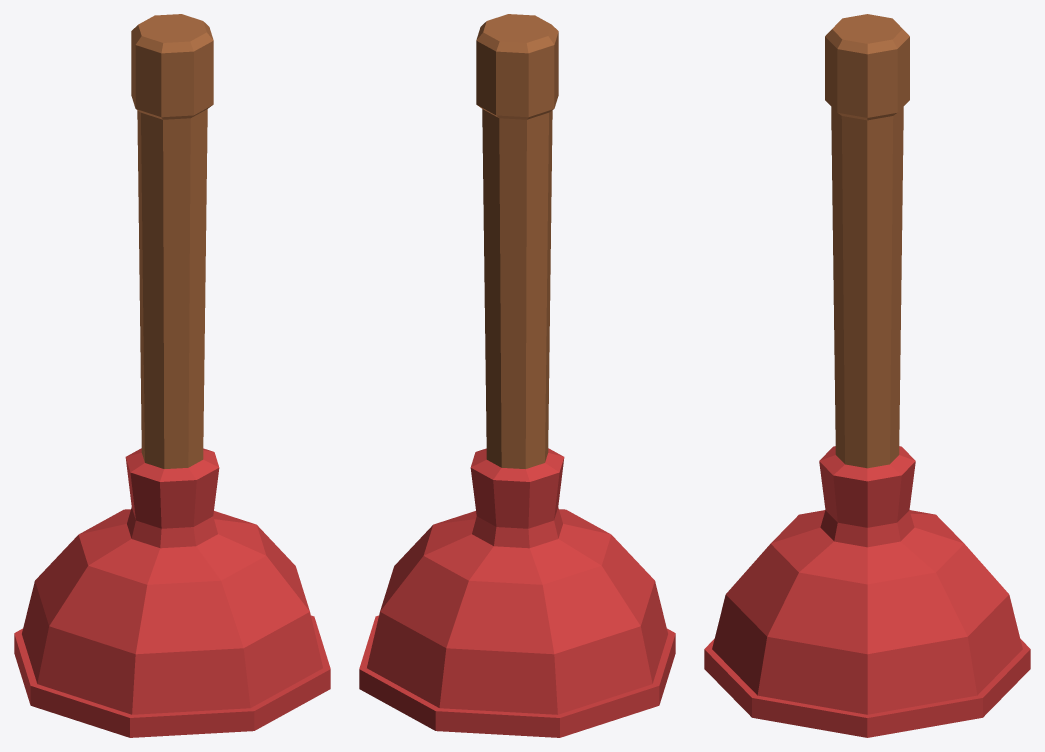
File: Plunger.fbx
3 views of the same model, side by side, from view 1: azimuth 30°, elevation 25°; view 2: azimuth 150°, elevation 25°; view 3: azimuth 270°, elevation 25° (orthographic).
Visible parts, largest first — view 1: Cylinder.1284; view 2: Cylinder.1284; view 3: Cylinder.1284.
Part boxes in pixels (<box>): Cylinder.1284: <box>14,14,330,737</box>; Cylinder.1284: <box>359,14,675,737</box>; Cylinder.1284: <box>704,14,1030,737</box>.
Bounding box in the file's own units: 44.07 × 95.36 × 44.07.
1 material, 1 textured.
